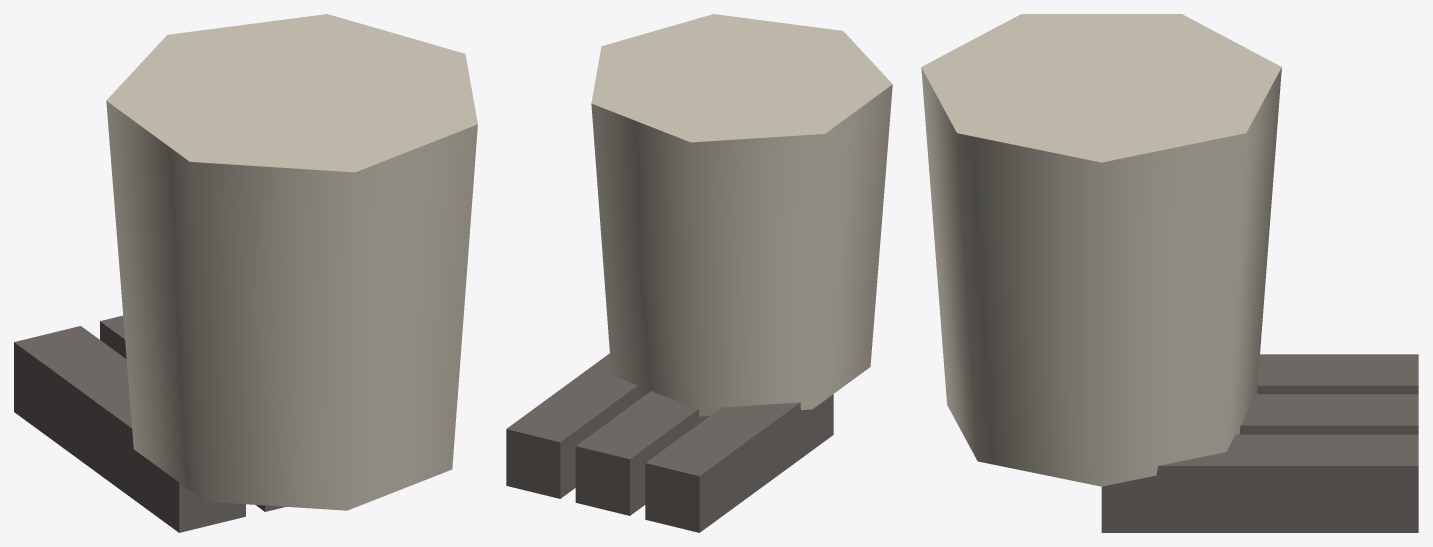
Rendered from owl_leg.glb.
The picture shows the model from 3 angles, left to right: view 1: azimuth 30°, elevation 25°; view 2: azimuth 150°, elevation 25°; view 3: azimuth 270°, elevation 25°; orthographic projection. The views are drawn at different scales.
Visible parts, largest first — view 1: owl_leg; view 2: owl_leg; view 3: owl_leg.
Boxes of the visible parts, x1,y1,x2,y2 form: owl_leg: (14,14,477,532); owl_leg: (506,14,892,532); owl_leg: (921,14,1418,532).
Size of the model in its own units: 0.0665 by 0.082 by 0.0941.
